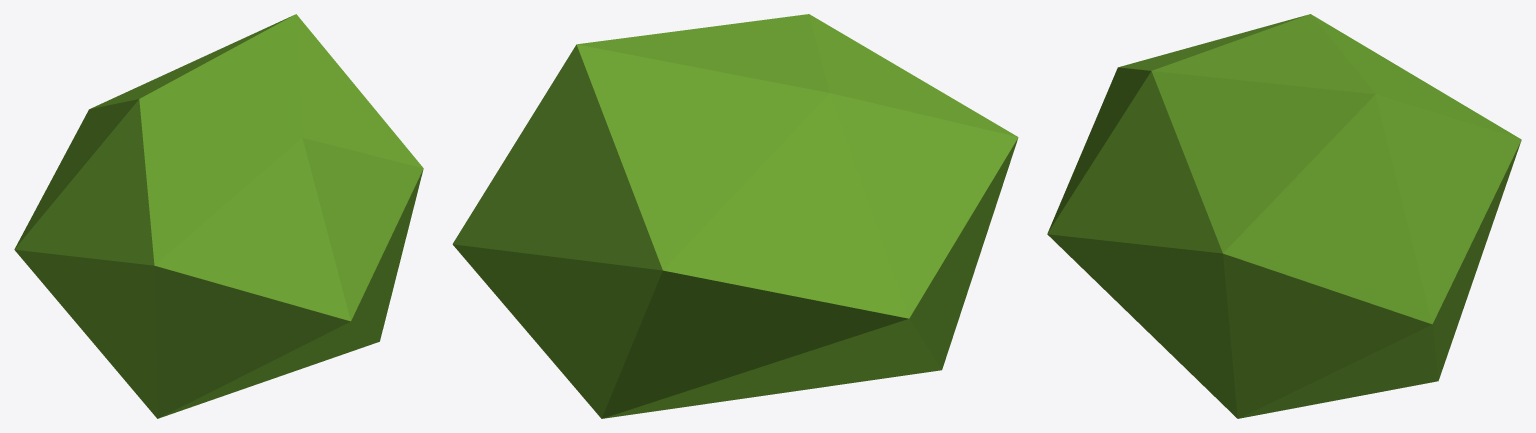
Rendered from Bush2.fbx.
3 views of the same model, side by side, from view 1: azimuth 30°, elevation 25°; view 2: azimuth 150°, elevation 25°; view 3: azimuth 270°, elevation 25° (orthographic). The views are drawn at different scales.
Visible parts, largest first — view 1: Cube.003; view 2: Cube.003; view 3: Cube.003.
Boxes of the visible parts, bbox=[...] form: Cube.003: bbox=[14, 14, 423, 418]; Cube.003: bbox=[452, 14, 1018, 418]; Cube.003: bbox=[1047, 14, 1521, 418].
Size of the model in its own units: 156 by 117 by 161.
